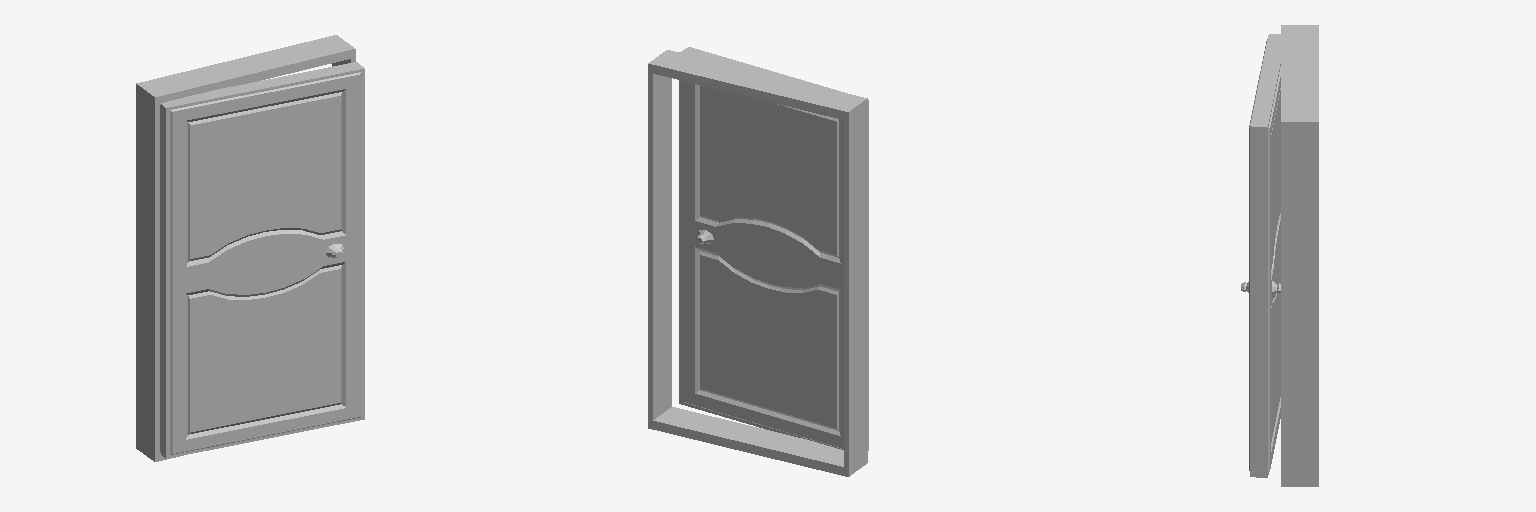
Rendered from drzwiok_000035.obj.
The picture shows the model from 3 angles: view 1: azimuth 30°, elevation 25°; view 2: azimuth 150°, elevation 25°; view 3: azimuth 270°, elevation 25°; orthographic projection.
Visible parts, largest first — view 1: Door_4.001_Cube.001, Kostka; view 2: Door_4.001_Cube.001, Kostka; view 3: Kostka, Door_4.001_Cube.001.
Boxes of the visible parts, box(x1,y1,x2,y2) form: Door_4.001_Cube.001: box(160, 62, 364, 458); Kostka: box(136, 35, 355, 461); Door_4.001_Cube.001: box(679, 47, 868, 450); Kostka: box(648, 50, 867, 476); Kostka: box(1281, 25, 1318, 486); Door_4.001_Cube.001: box(1241, 34, 1280, 477).
Size of the model in its own units: 0.7416 by 1.29 by 0.2522.